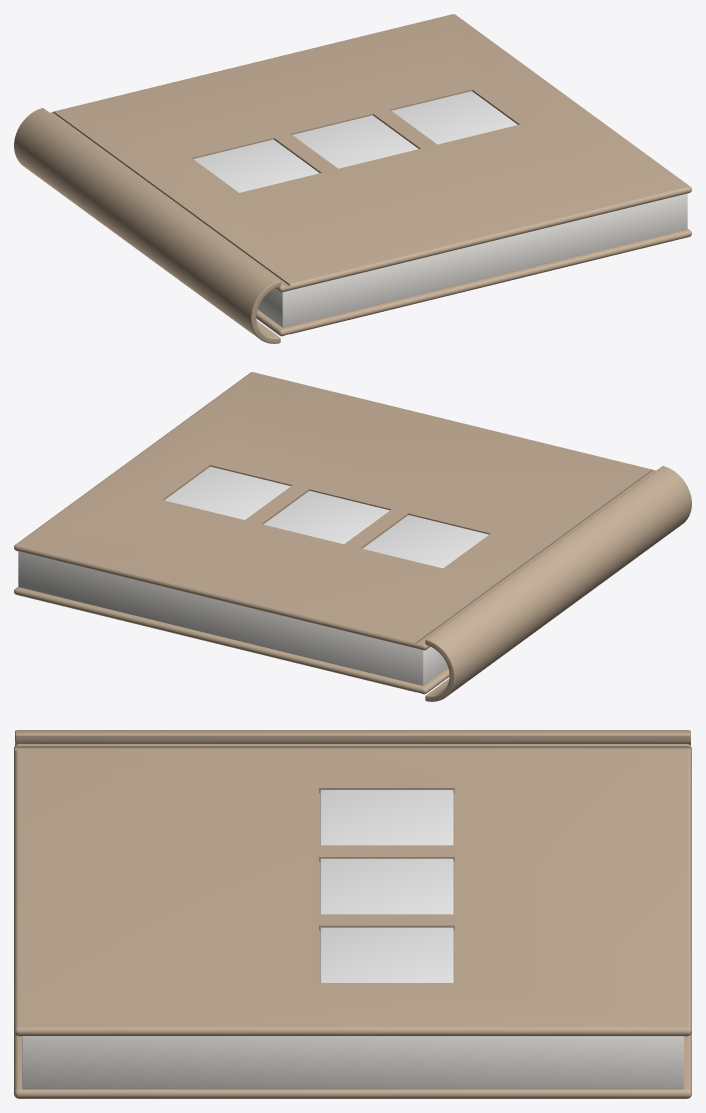
The model's file is trilogy--square.glb.
3 renders of one model, top to bottom at view 1: azimuth 30°, elevation 25°; view 2: azimuth 150°, elevation 25°; view 3: azimuth 270°, elevation 25°, orthographic. The views are drawn at different scales.
Parts seen in each view (by area): view 1: CoverFront, Spine, Pages, CoverBack, Photo2, Photo1, Photo3; view 2: CoverFront, Spine, Pages, CoverBack, Photo1, Photo2, Photo3; view 3: CoverFront, Pages, Spine, Photo2, CoverBack, Photo1, Photo3.
Part boxes in pixels (x1=…): CoverFront: x1=50, y1=14, x2=691, y2=292; Spine: x1=14, y1=108, x2=280, y2=343; Pages: x1=258, y1=193, x2=687, y2=327; CoverBack: x1=256, y1=229, x2=691, y2=336; Photo2: x1=292, y1=115, x2=418, y2=168; Photo1: x1=193, y1=139, x2=319, y2=192; Photo3: x1=391, y1=91, x2=517, y2=144; CoverFront: x1=14, y1=372, x2=655, y2=650; Spine: x1=425, y1=466, x2=691, y2=701; Pages: x1=18, y1=551, x2=447, y2=685; CoverBack: x1=14, y1=587, x2=449, y2=694; Photo1: x1=362, y1=515, x2=488, y2=568; Photo2: x1=263, y1=490, x2=389, y2=544; Photo3: x1=164, y1=466, x2=290, y2=519; CoverFront: x1=14, y1=744, x2=691, y2=1036; Pages: x1=22, y1=1036, x2=683, y2=1089; Spine: x1=15, y1=730, x2=690, y2=745; Photo2: x1=320, y1=858, x2=453, y2=914; CoverBack: x1=14, y1=1033, x2=691, y2=1098; Photo1: x1=320, y1=790, x2=453, y2=845; Photo3: x1=320, y1=927, x2=453, y2=982.
Bounding box in the file's own units: 0.3208 × 0.043 × 0.3.
